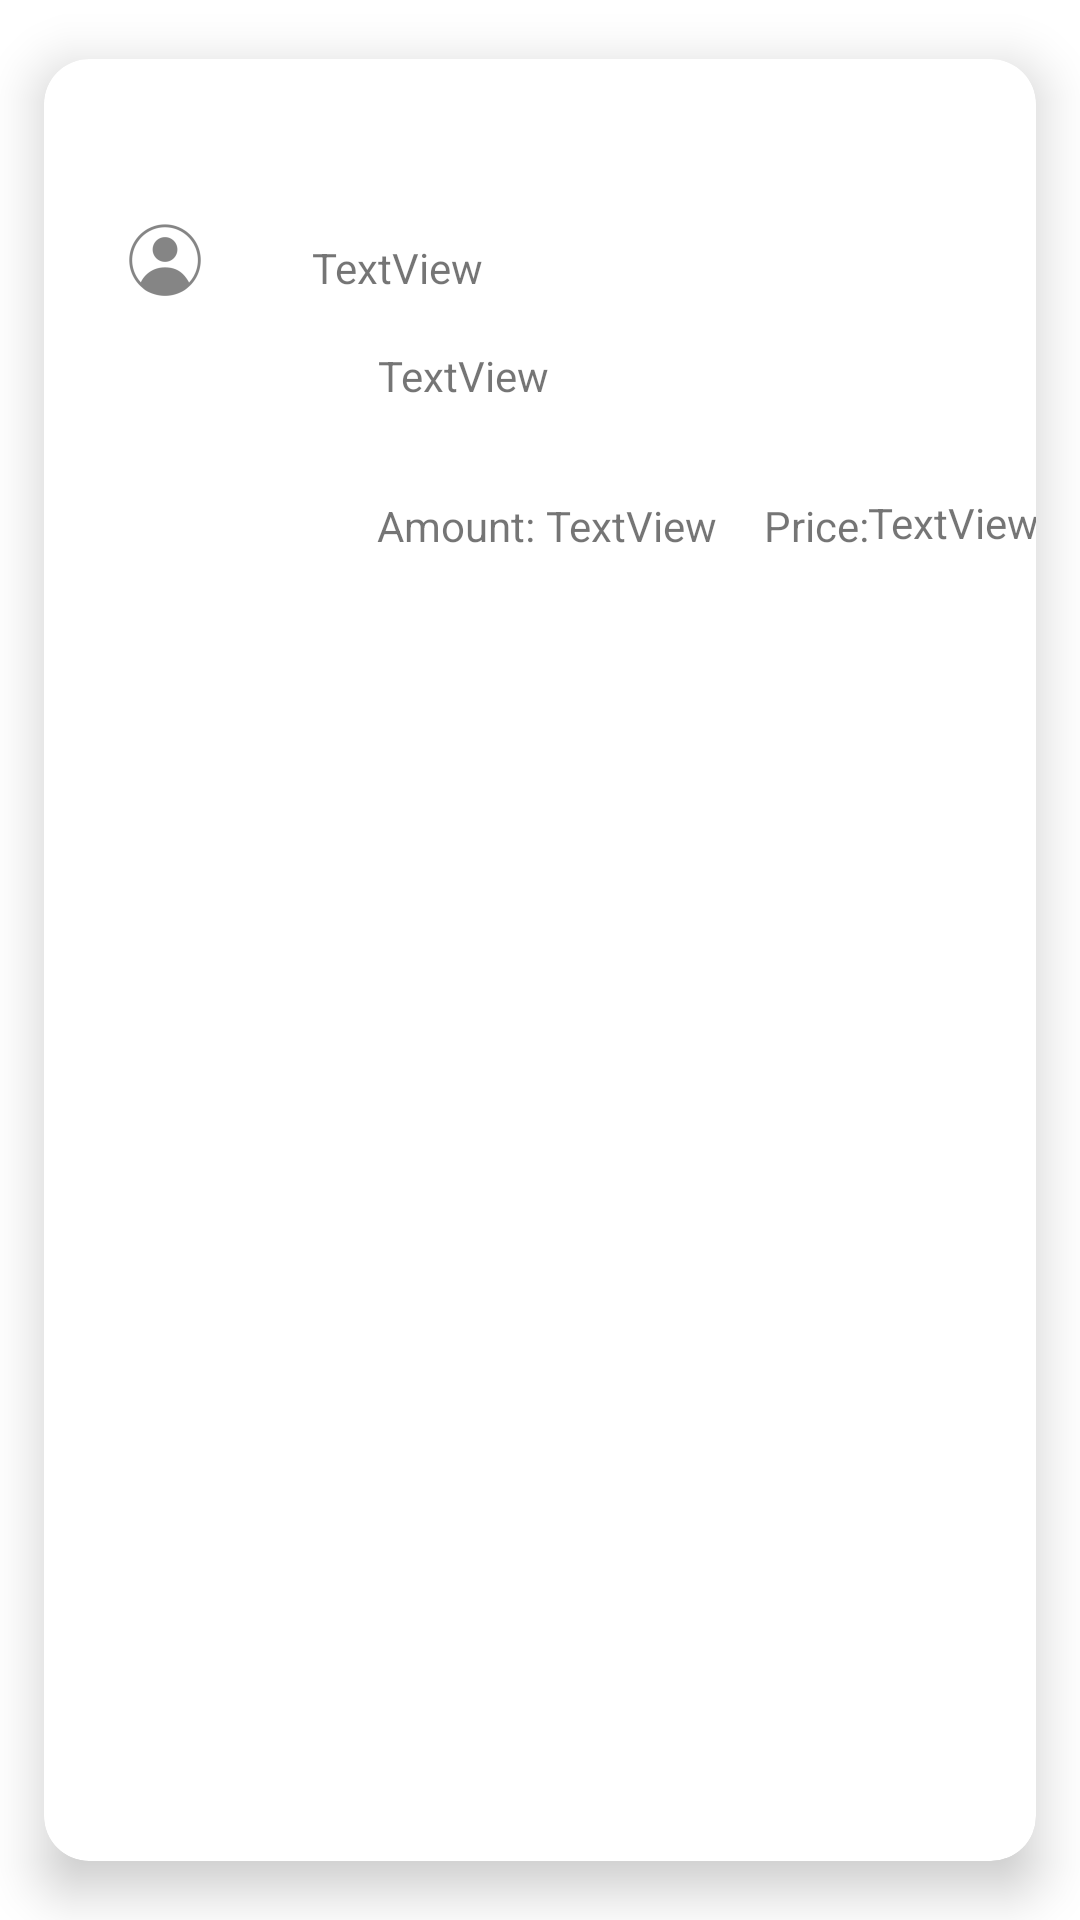

Screen size 1080px×1920px. Icon name, then its center in pixels as point (x, y):
profile: point (165, 260)
